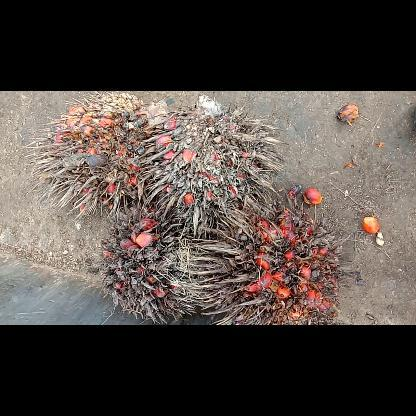Terlalu masak: (134, 91, 289, 239), (184, 192, 348, 324), (17, 91, 179, 223), (92, 200, 209, 324)
